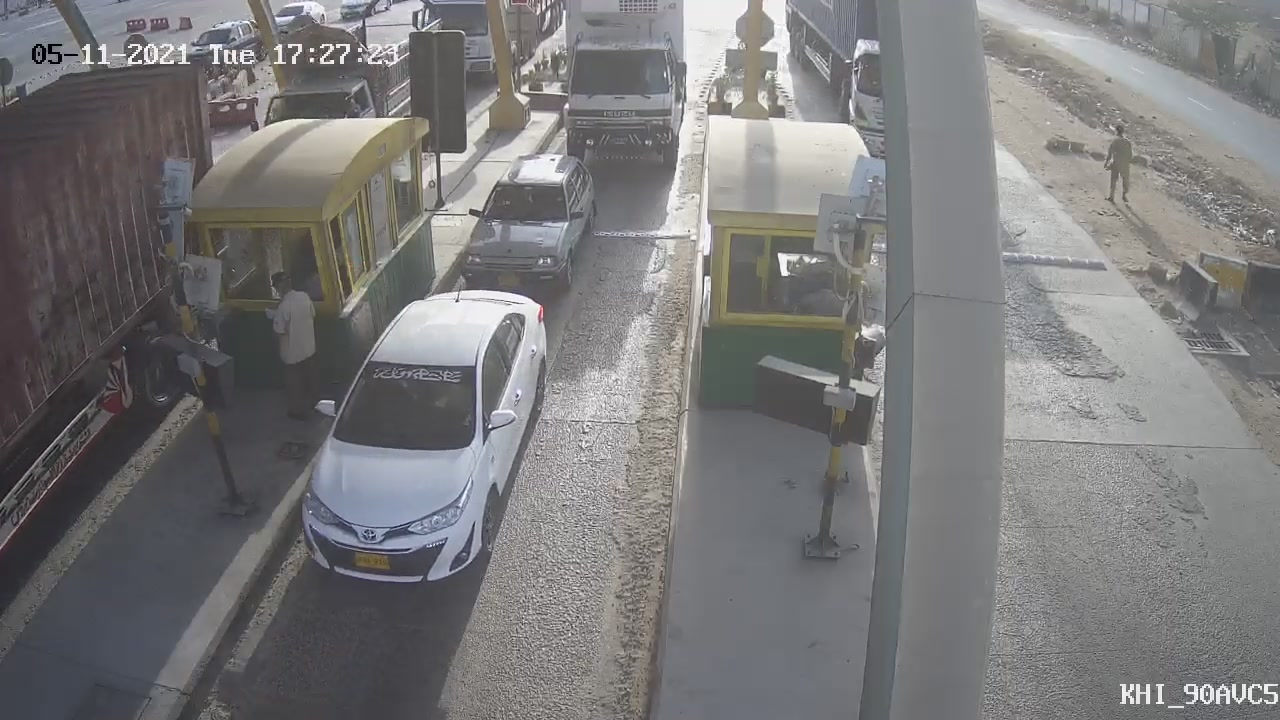F1: (272, 272, 573, 616), (448, 139, 618, 316)
